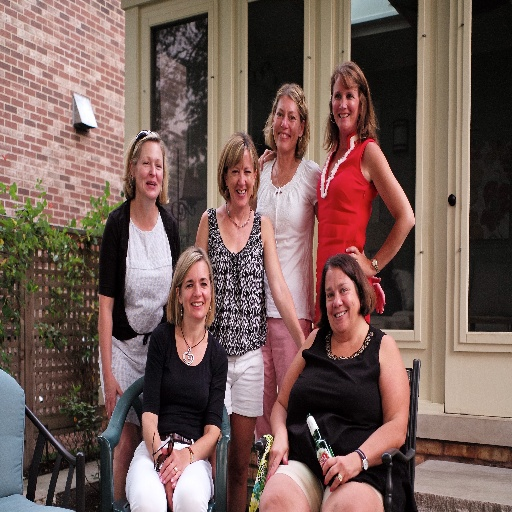hand: (323, 445, 370, 497), (262, 430, 290, 488), (159, 443, 190, 485), (344, 243, 376, 278), (103, 375, 123, 423), (370, 275, 386, 315), (257, 149, 276, 170), (164, 481, 175, 511)
